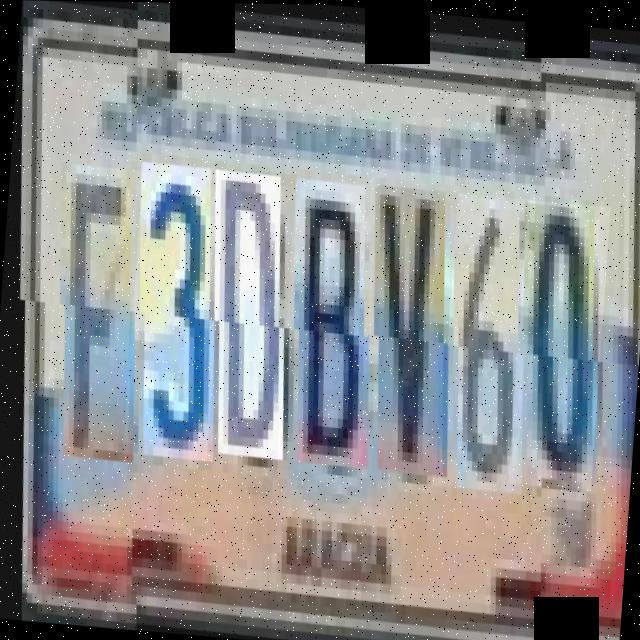3: (123, 161, 227, 460)
6: (438, 191, 536, 490)
B: (278, 175, 382, 465)
D: (198, 167, 296, 457)
F: (44, 153, 148, 453)
O: (508, 198, 610, 488)
V: (358, 183, 461, 473)
